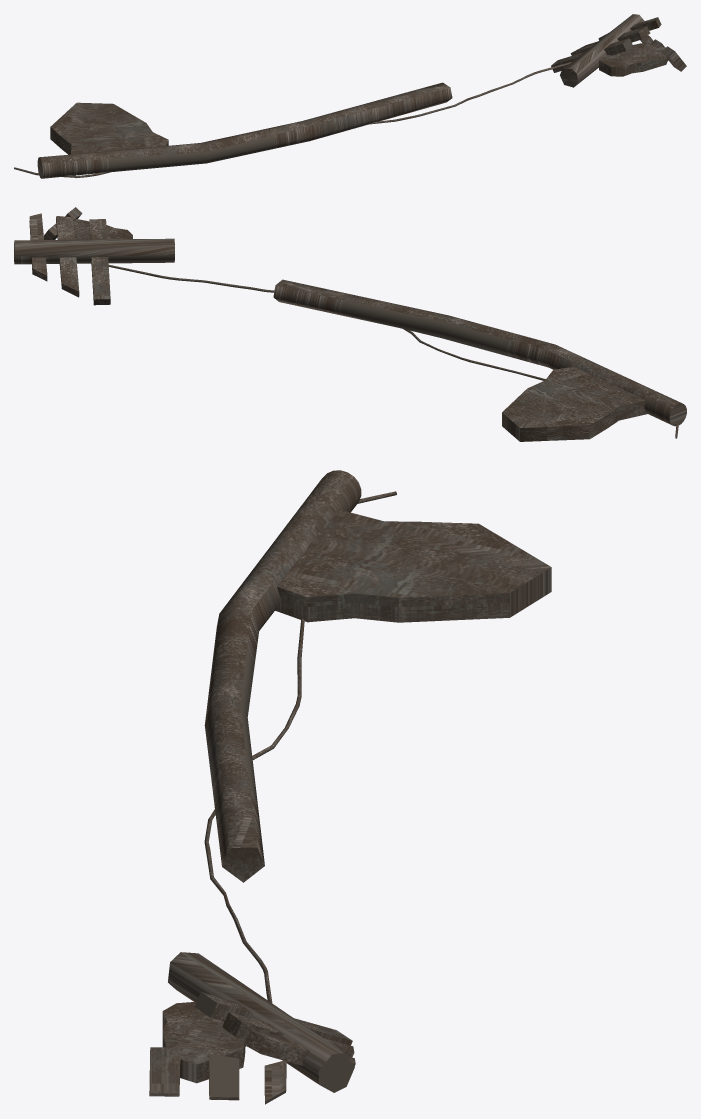
File: PosteLuz.obj
3 renders of one model, top to bottom at view 1: azimuth 30°, elevation 25°; view 2: azimuth 150°, elevation 25°; view 3: azimuth 270°, elevation 25°, orthographic. The views are drawn at different scales.
Visible parts, largest first — view 1: Object004, Box153, Cylinder001, Box152, Line003, Object015; view 2: Object004, Box153, Cylinder001, Line003, Box152; view 3: Box153, Object004, Cylinder001, Box152, Object015, Line003.
Boxes of the visible parts, box(x1,y1,x2,y2) form: Object004: box(37, 82, 452, 178); Box153: box(50, 102, 168, 175); Cylinder001: box(551, 14, 661, 87); Box152: box(599, 43, 667, 76); Line003: box(14, 61, 571, 178); Object015: box(640, 35, 686, 71); Object004: box(273, 279, 686, 426); Box153: box(502, 366, 647, 441); Cylinder001: box(14, 213, 174, 305); Line003: box(108, 264, 678, 438); Box152: box(73, 219, 132, 239); Box153: box(275, 509, 551, 622); Object004: box(204, 470, 361, 882); Cylinder001: box(168, 952, 355, 1092); Box152: box(162, 1001, 245, 1083); Object015: box(149, 1047, 286, 1104); Line003: box(204, 491, 396, 1002).
Size of the model in its own units: 209 by 15.51 by 59.41.
